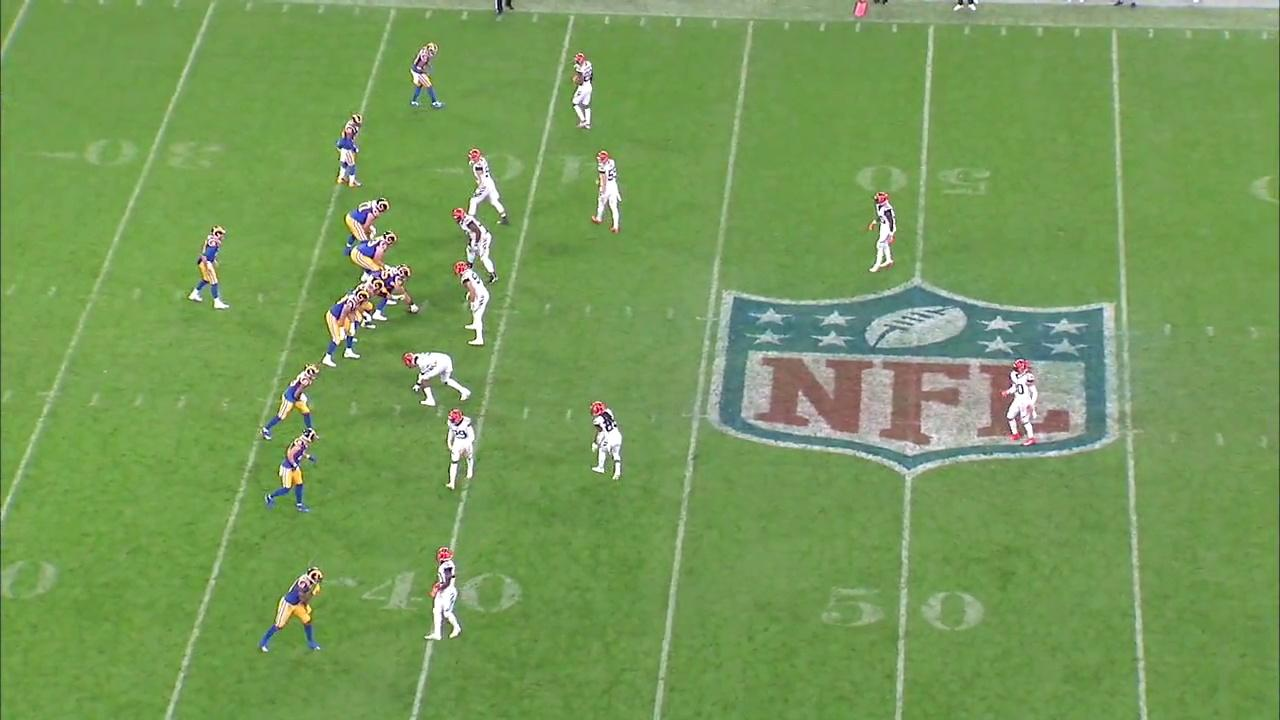defense: (422, 543, 464, 644), (402, 350, 472, 407), (450, 206, 499, 286), (1002, 357, 1043, 451), (465, 147, 511, 226), (453, 261, 491, 348), (587, 398, 624, 481), (590, 149, 624, 235), (443, 407, 476, 493), (865, 190, 898, 275), (566, 52, 595, 130)
oline: (321, 288, 369, 372), (363, 261, 421, 323), (342, 195, 390, 257), (344, 274, 386, 344), (349, 229, 399, 285)
qb: (186, 222, 234, 313)
skill: (255, 566, 327, 659), (258, 361, 323, 443), (261, 428, 320, 516), (407, 39, 448, 113), (334, 113, 365, 190)
